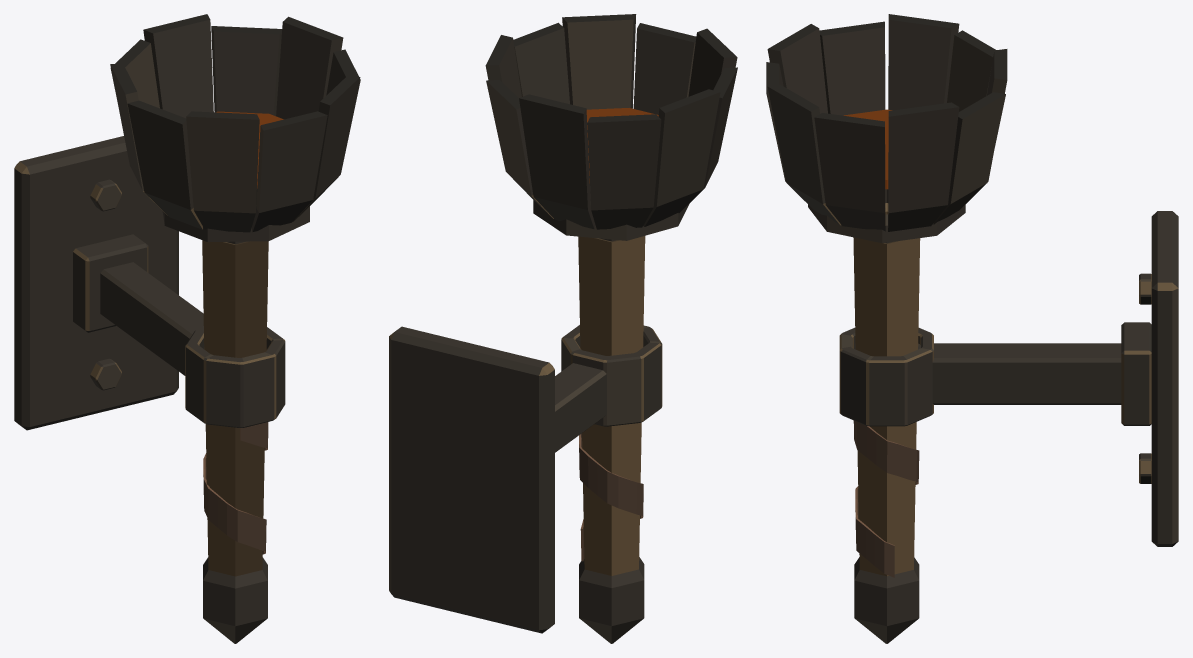
The model's file is Torch.fbx.
3 renders of one model, left to right at view 1: azimuth 30°, elevation 25°; view 2: azimuth 150°, elevation 25°; view 3: azimuth 270°, elevation 25°, orthographic.
Visible parts, largest first — view 1: SM_Torch_Body, SM_Torch_Mount, SM_Torch_Grip; view 2: SM_Torch_Body, SM_Torch_Mount, SM_Torch_Grip, SM_Torch_Embers; view 3: SM_Torch_Body, SM_Torch_Mount, SM_Torch_Grip, SM_Torch_Embers.
Part boxes in pixels (x1,y1,x2,y2): SM_Torch_Body: (110,14,360,643); SM_Torch_Mount: (14,136,285,430); SM_Torch_Grip: (203,422,268,554); SM_Torch_Body: (485,14,737,643); SM_Torch_Mount: (389,325,662,633); SM_Torch_Grip: (579,433,643,561); SM_Torch_Embers: (586,108,658,183); SM_Torch_Body: (766,14,1007,643); SM_Torch_Mount: (839,211,1178,546); SM_Torch_Grip: (853,420,919,577); SM_Torch_Embers: (843,109,892,189).
Bounding box in the file's own units: 24.2 × 61.4 × 39.57.
